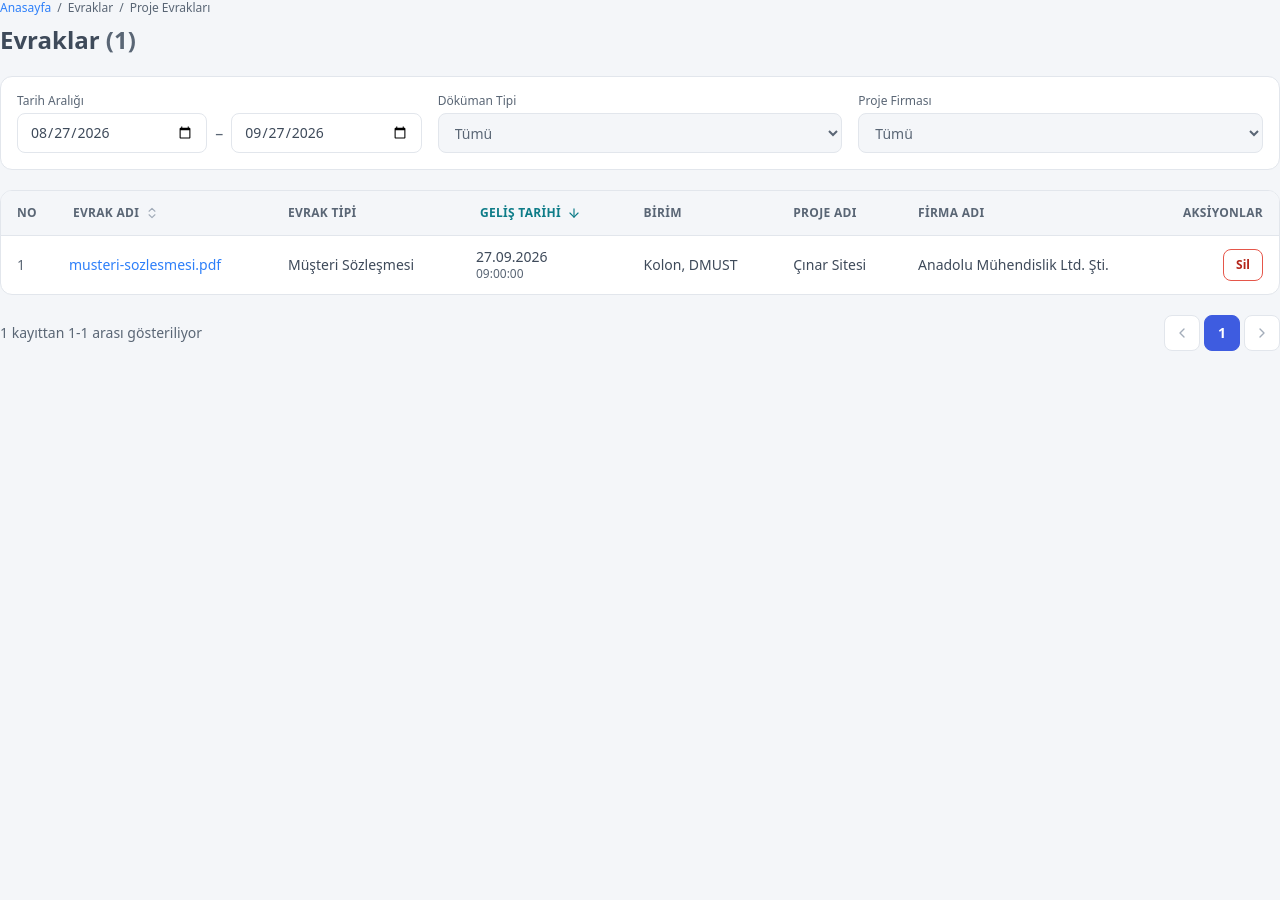
Test case: DocumentListPage › vazgeçilince silme isteği atılmaz
Expected: the table is shown, top-left (1, 191), bottom-right (1279, 294)
What coordinates should you click on to do the following:
click the button "Sil"
I would click on:
 (1243, 265)
Its box is top-left (1223, 249), bottom-right (1263, 281).
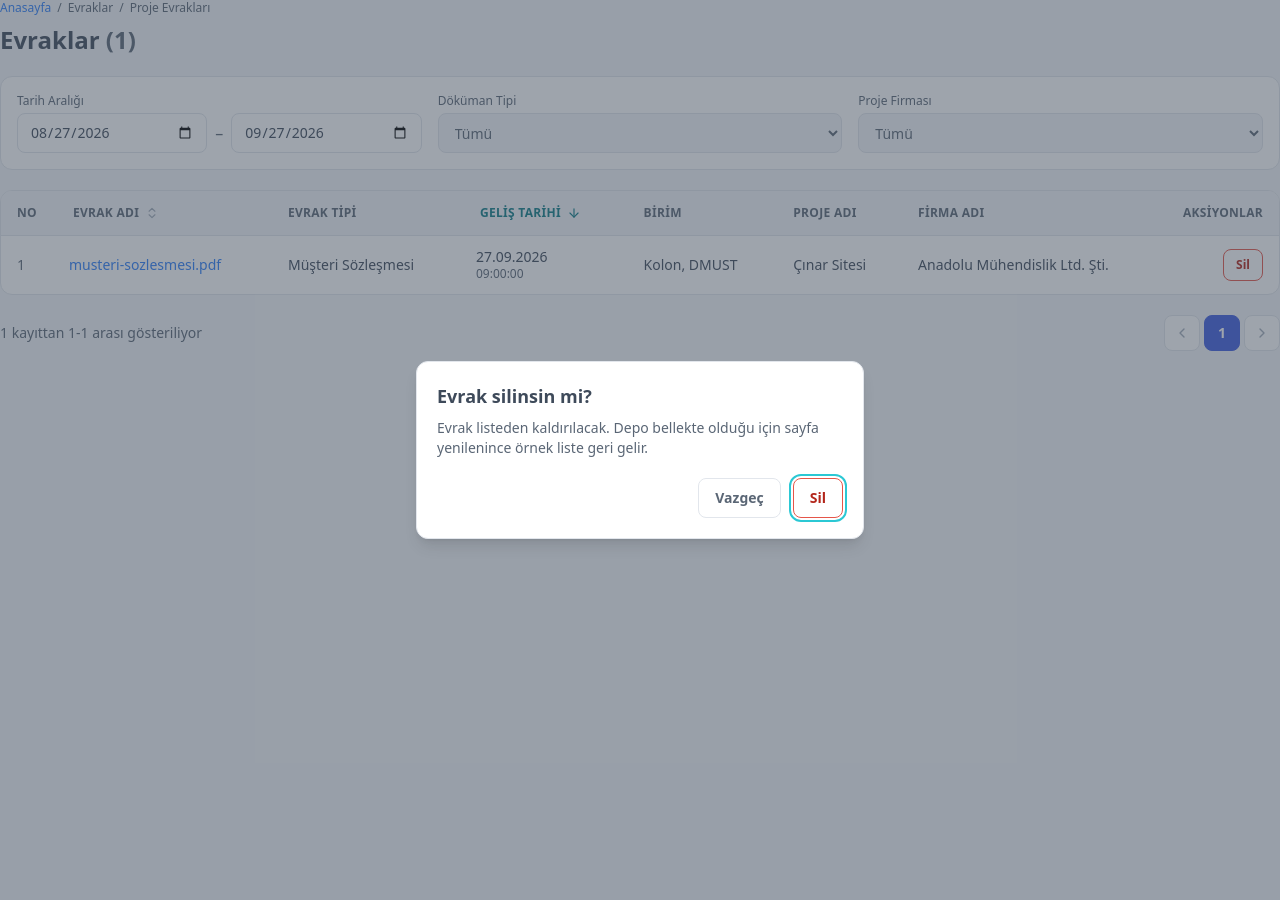
What coordinates should you click on to do the following:
click the button "Vazgeç"
I would click on:
 (740, 498)
Its box is top-left (698, 478), bottom-right (781, 518).
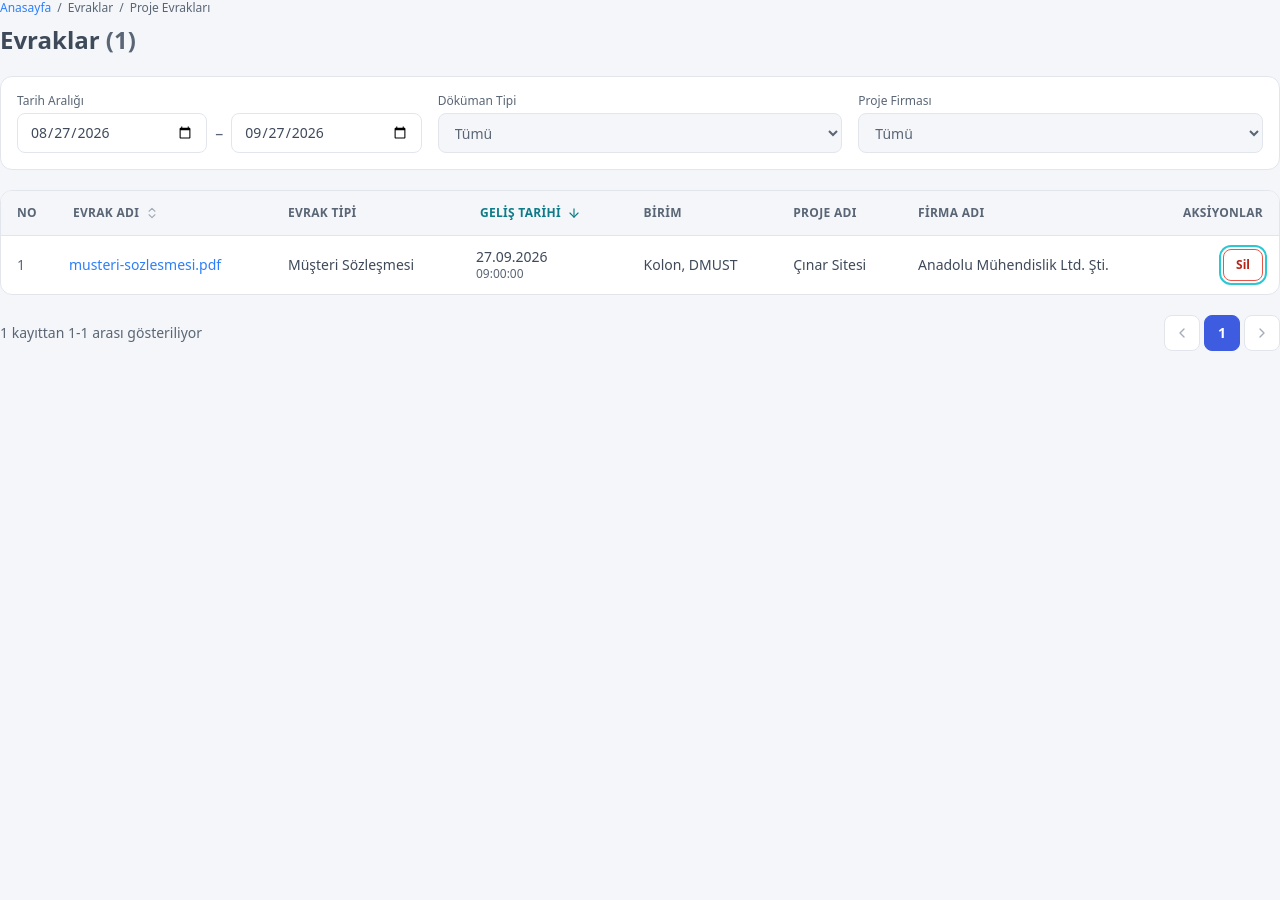
Result: the dialog is gone
